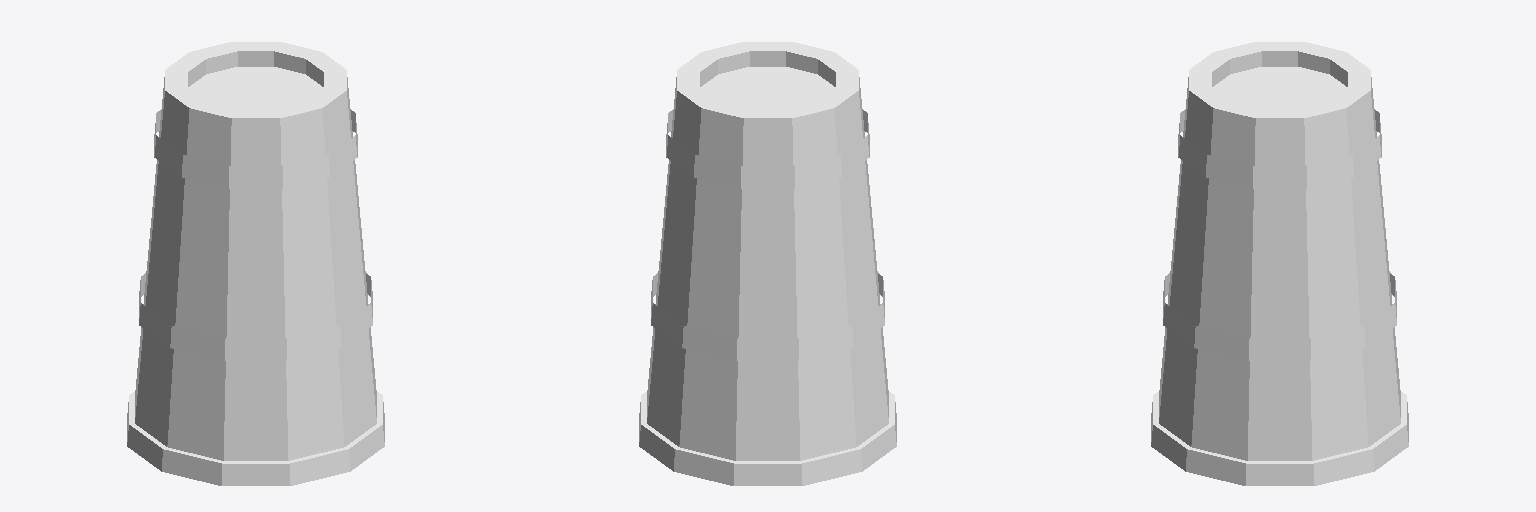
The model's file is butter_churn_lower.obj.
3 renders of one model, left to right at view 1: azimuth 30°, elevation 25°; view 2: azimuth 150°, elevation 25°; view 3: azimuth 270°, elevation 25°, orthographic.
Visible parts, largest first — view 1: cylinder, lower_ring, middle_ring, upper_ring; view 2: cylinder, lower_ring, middle_ring, upper_ring; view 3: cylinder, lower_ring, middle_ring, upper_ring.
Boxes of the visible parts, x1=… form: cylinder: x1=135, y1=42, x2=376, y2=460; lower_ring: x1=127, y1=392, x2=384, y2=485; middle_ring: x1=139, y1=273, x2=372, y2=360; upper_ring: x1=154, y1=109, x2=357, y2=188; cylinder: x1=647, y1=42, x2=888, y2=460; lower_ring: x1=639, y1=392, x2=896, y2=485; middle_ring: x1=651, y1=273, x2=884, y2=360; upper_ring: x1=666, y1=109, x2=869, y2=188; cylinder: x1=1159, y1=42, x2=1400, y2=460; lower_ring: x1=1151, y1=392, x2=1408, y2=485; middle_ring: x1=1163, y1=273, x2=1396, y2=360; upper_ring: x1=1178, y1=109, x2=1381, y2=188.
Bounding box in the file's own units: 0.6634 × 0.999 × 0.6634.